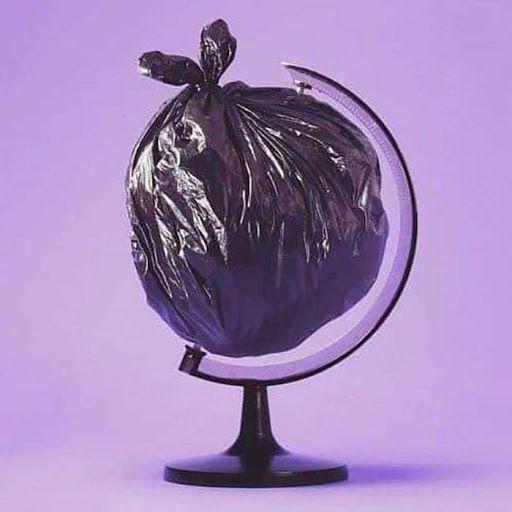LDPE: (125, 19, 381, 360)
